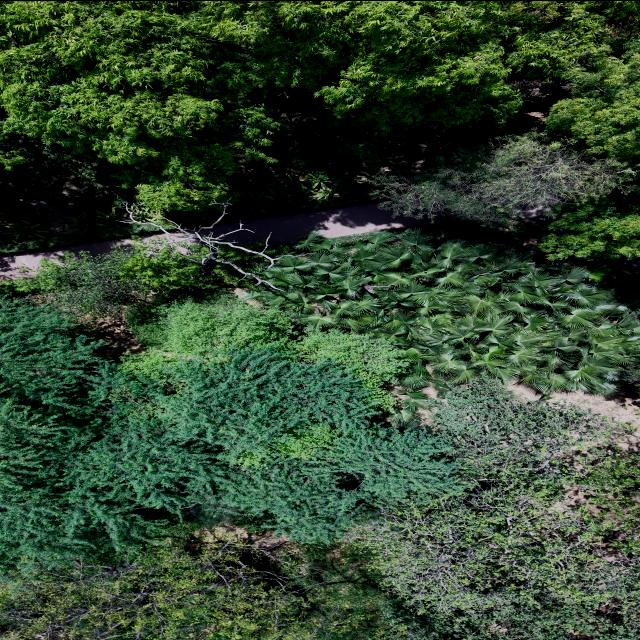DRY_AREA: (200, 203, 430, 244), (201, 203, 430, 244), (210, 203, 429, 244)
VEGETATION_TREE: (0, 1, 639, 639), (0, 229, 638, 639), (0, 1, 638, 228), (2, 1, 618, 210), (0, 300, 458, 562), (56, 252, 458, 541), (350, 377, 637, 639), (246, 226, 638, 393), (373, 32, 639, 259), (2, 1, 282, 210), (158, 346, 457, 541), (0, 298, 208, 568), (3, 534, 394, 639), (126, 292, 410, 410), (373, 133, 633, 227), (14, 244, 210, 316), (545, 35, 639, 164), (126, 292, 299, 354), (15, 249, 152, 315), (299, 329, 410, 410), (539, 195, 639, 259), (0, 183, 62, 246), (0, 206, 45, 243), (68, 207, 119, 232)
